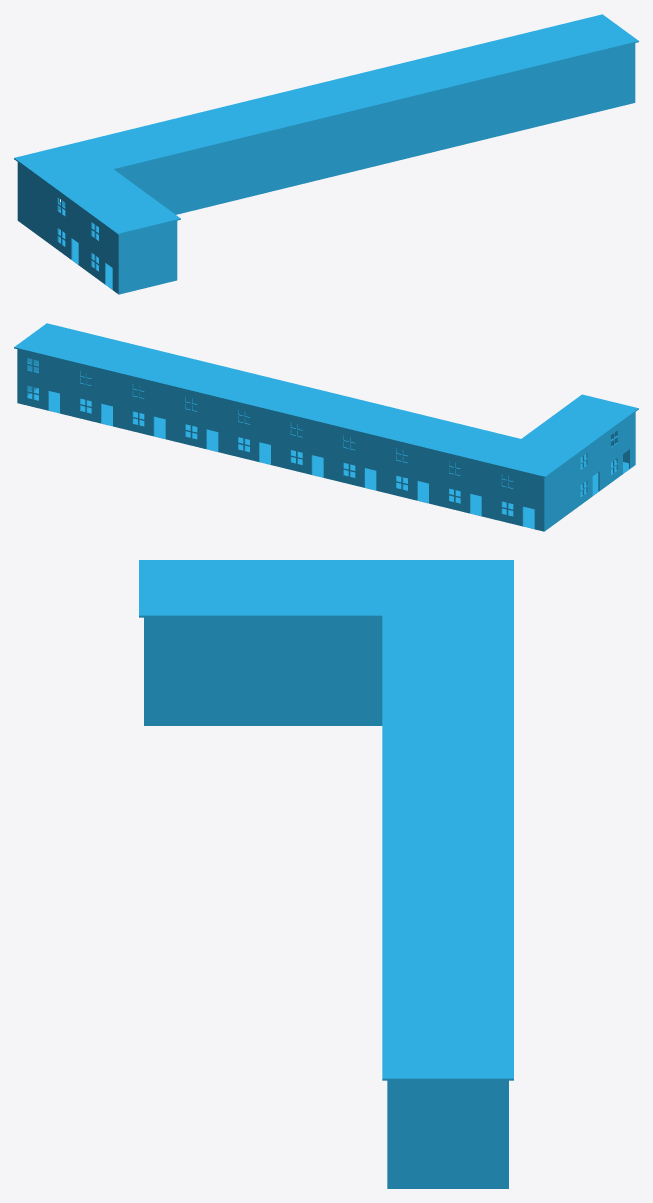
The model's file is house4.obj.
3 renders of one model, top to bottom at view 1: azimuth 30°, elevation 25°; view 2: azimuth 150°, elevation 25°; view 3: azimuth 270°, elevation 25°, orthographic. The views are drawn at different scales.
Visible parts, largest first — view 1: house4; view 2: house4; view 3: house4.
Boxes of the visible parts, bbox=[...] form: house4: bbox=[14, 14, 638, 294]; house4: bbox=[14, 323, 638, 531]; house4: bbox=[139, 560, 513, 1188].
Bounding box in the file's own units: 1008 × 102 × 308.
